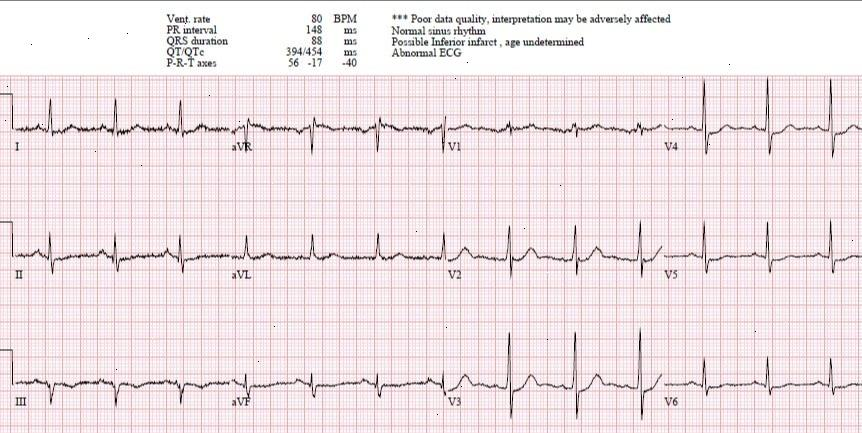Lead_I: (11, 93, 232, 165)
Lead_II: (10, 221, 232, 296)
Lead_III: (12, 353, 230, 422)
Lead_V1: (444, 105, 662, 159)
Lead_V2: (447, 216, 665, 288)
Lead_V3: (444, 321, 665, 422)
Lead_V4: (664, 76, 862, 172)
Lead_V5: (663, 211, 862, 288)
Lead_V6: (662, 348, 862, 416)
Lead_aVF: (231, 359, 448, 411)
Lead_aVL: (232, 221, 447, 287)
Lead_aVR: (232, 98, 443, 164)
